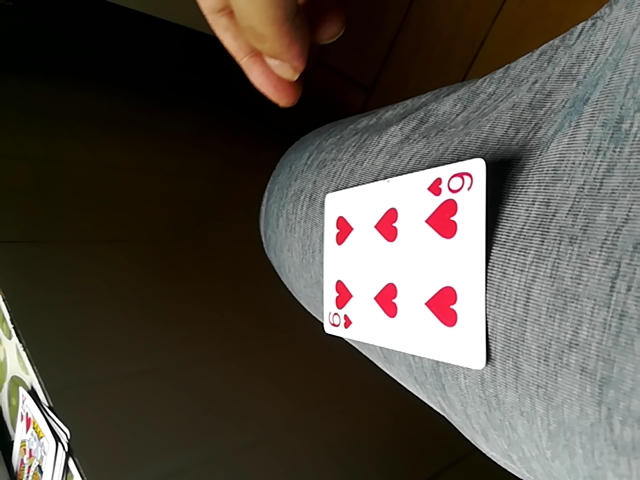hx 6: (315, 159, 493, 369)
